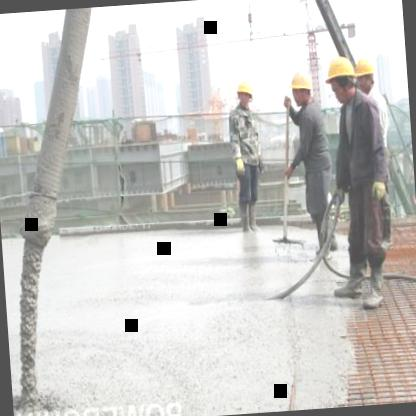helmet: (322, 52, 365, 104), (287, 64, 315, 110), (354, 52, 376, 98), (234, 74, 257, 110)
